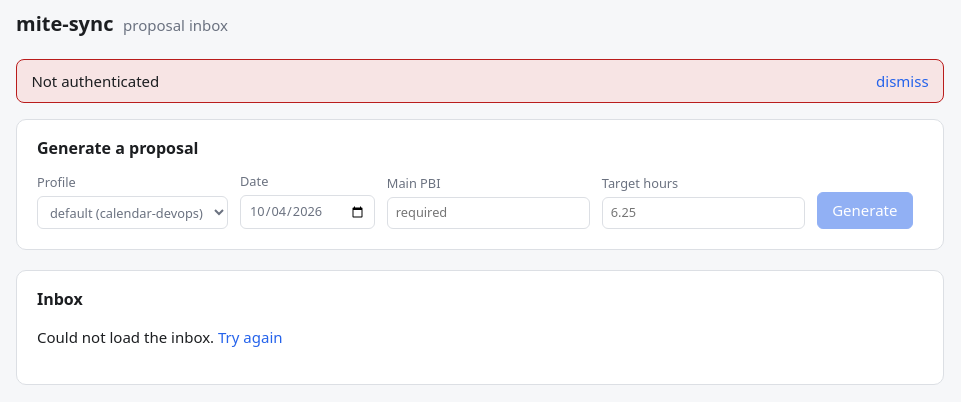
Scenario: App › does not leave the inbox loading when the list fails
Expected: the text "Could not load the inbox. Try again" is shown, [37, 326, 282, 349]
Click the button "Try again" at (250, 338), box [218, 326, 282, 349]
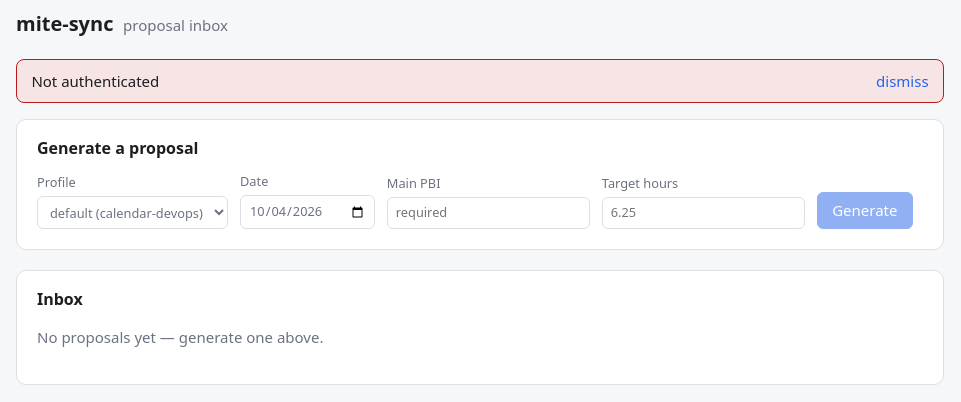
Result: the text "No proposals yet — generate one above." is shown at [37, 327, 324, 347]
